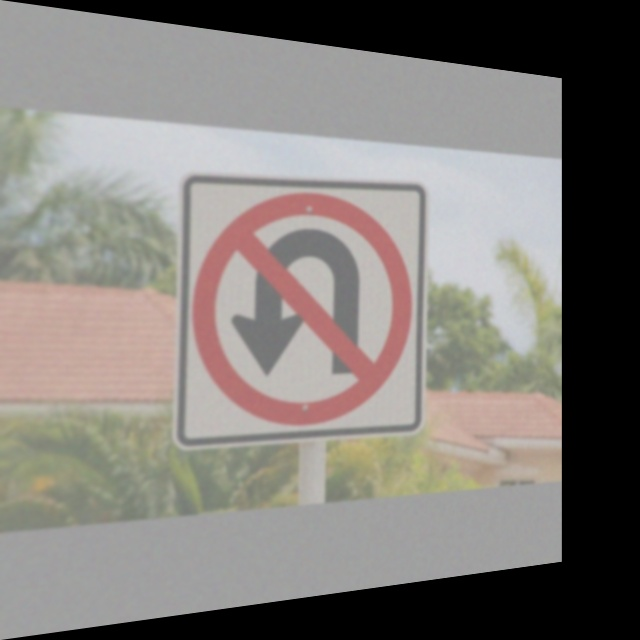U_Turn_Prohibited: (192, 178, 418, 435)
